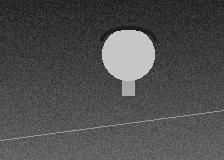no_helmet: (102, 26, 154, 85)
